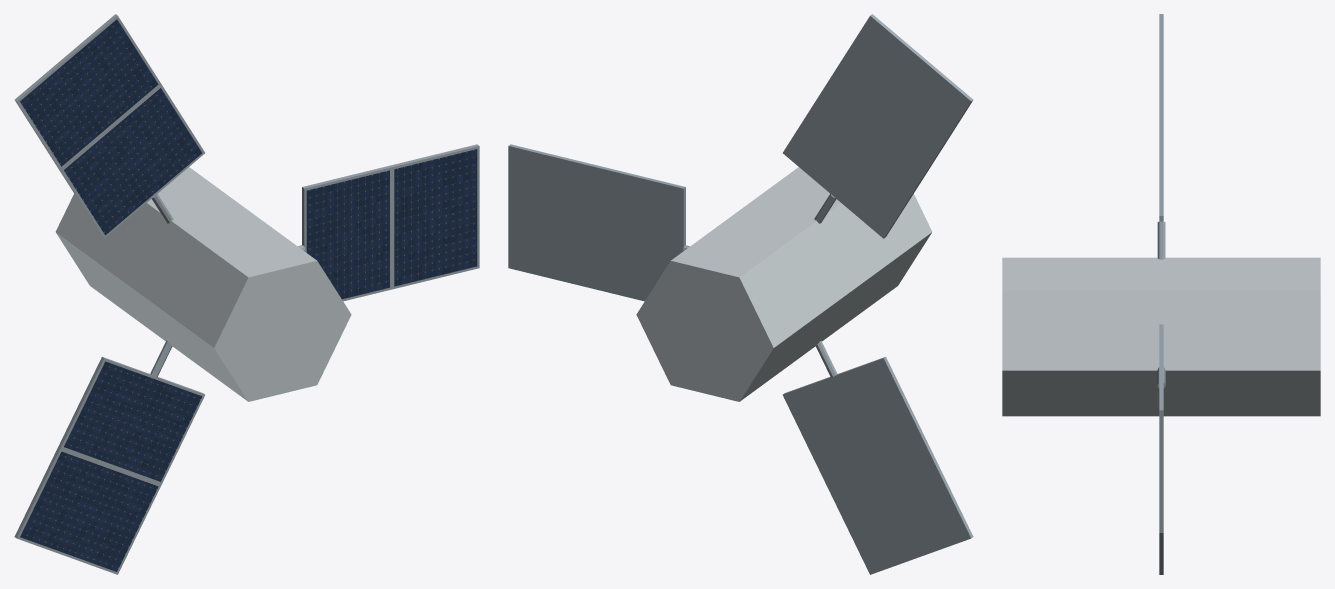
The model's file is ref-astrobus-m-com-48268.glb.
3 views of the same model, side by side, from view 1: azimuth 30°, elevation 25°; view 2: azimuth 150°, elevation 25°; view 3: azimuth 270°, elevation 25° (orthographic).
Parts seen in each view (by area): view 1: Photovoltaic laminates (×6), Spacecraft body, Array frame (×6); view 2: Array frame (×6), Spacecraft body; view 3: Spacecraft body, Array frame (×3).
Boxes of the visible parts, x1,y1,x2,y2 form: Photovoltaic laminates (×6): [20, 19, 477, 571]; Spacecraft body: [55, 167, 351, 401]; Array frame (×6): [14, 14, 479, 574]; Array frame (×6): [508, 14, 973, 574]; Spacecraft body: [636, 167, 932, 401]; Spacecraft body: [1002, 257, 1320, 416]; Array frame (×3): [1159, 14, 1163, 532].
Bounding box in the file's own units: 6.74 × 7.78 × 4.
3 materials, 1 textured.
